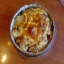pizza: (9, 4, 55, 55)
